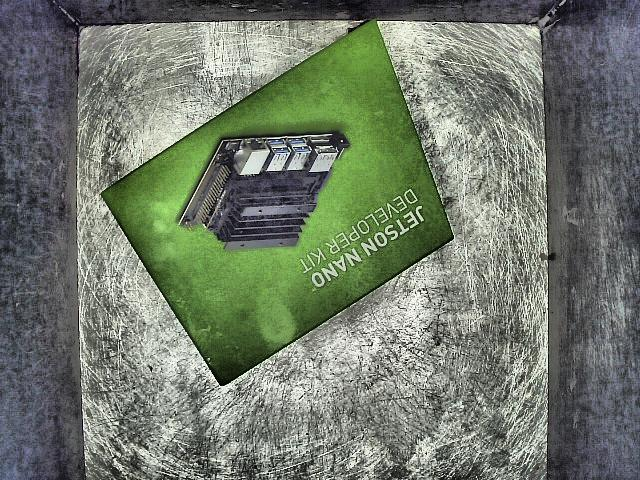Paper: (100, 16, 466, 399)
